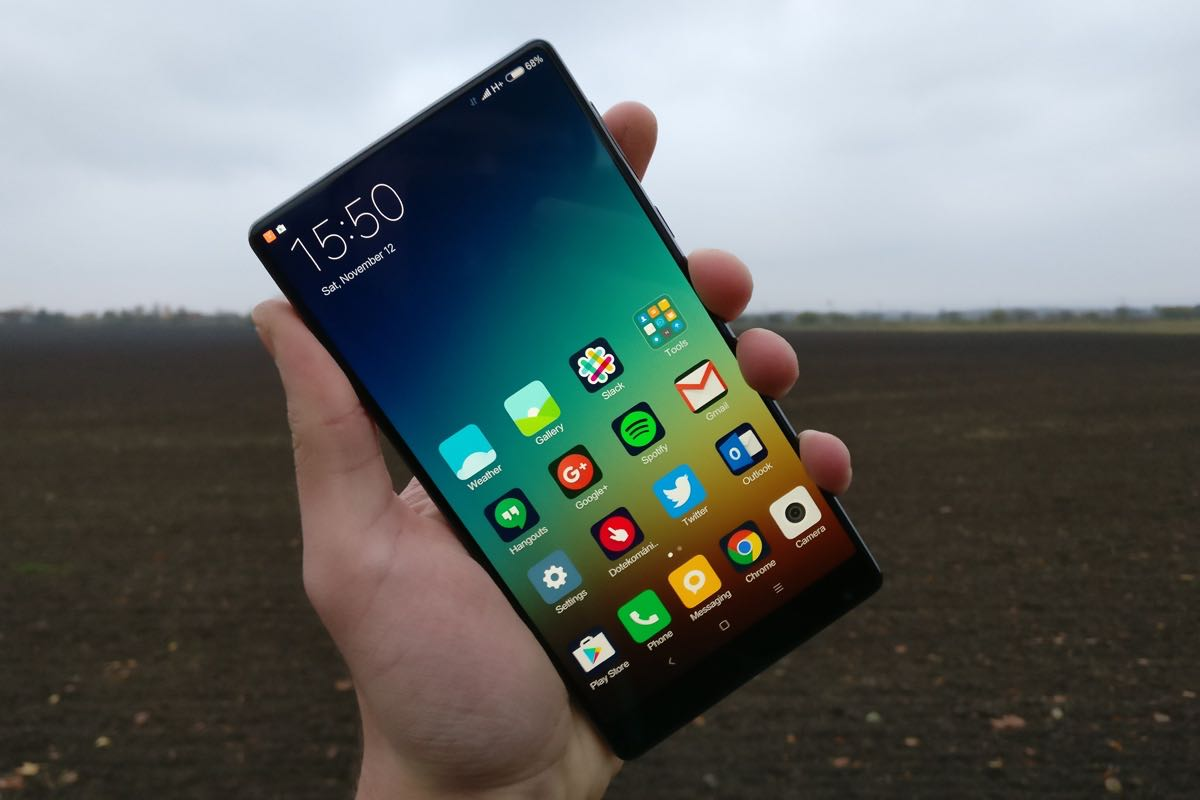smartphone: (248, 39, 884, 761)
